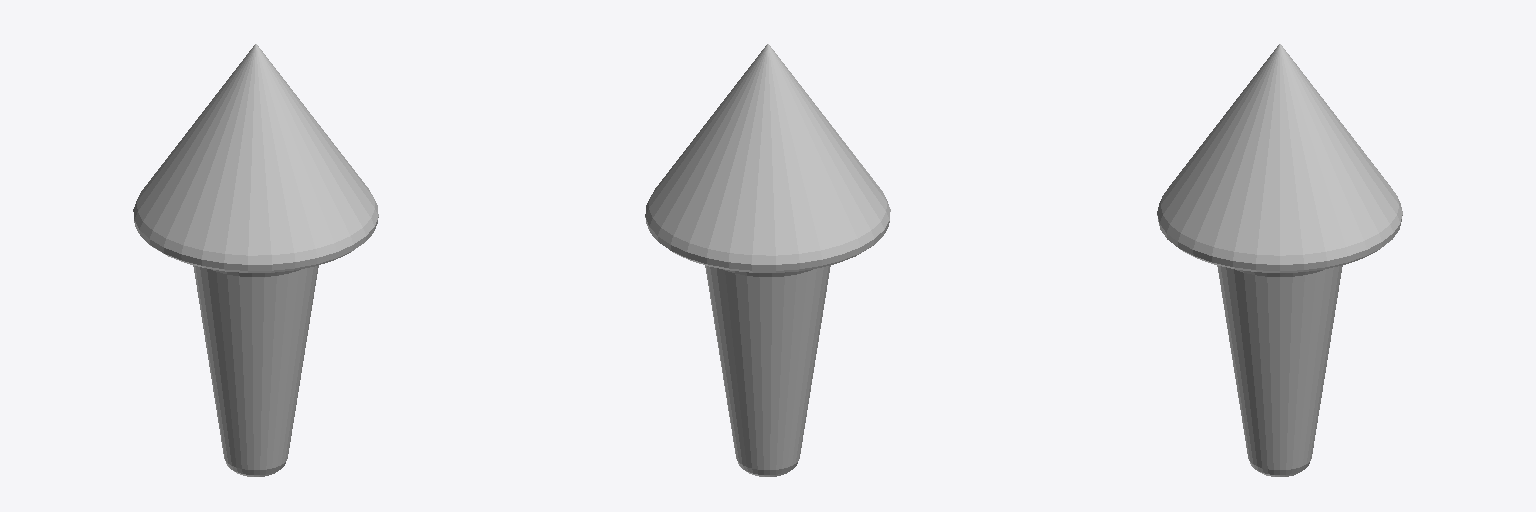
File: BR_Arrow.obj
3 renders of one model, left to right at view 1: azimuth 30°, elevation 25°; view 2: azimuth 150°, elevation 25°; view 3: azimuth 270°, elevation 25°, orthographic.
Parts seen in each view (by area): view 1: Cone; view 2: Cone; view 3: Cone.
Boxes of the visible parts, x1,y1,x2,y2 form: Cone: [133, 44, 378, 476]; Cone: [645, 44, 890, 476]; Cone: [1157, 44, 1402, 476].
Size of the model in its own units: 0.9161 by 1.75 by 0.9161.